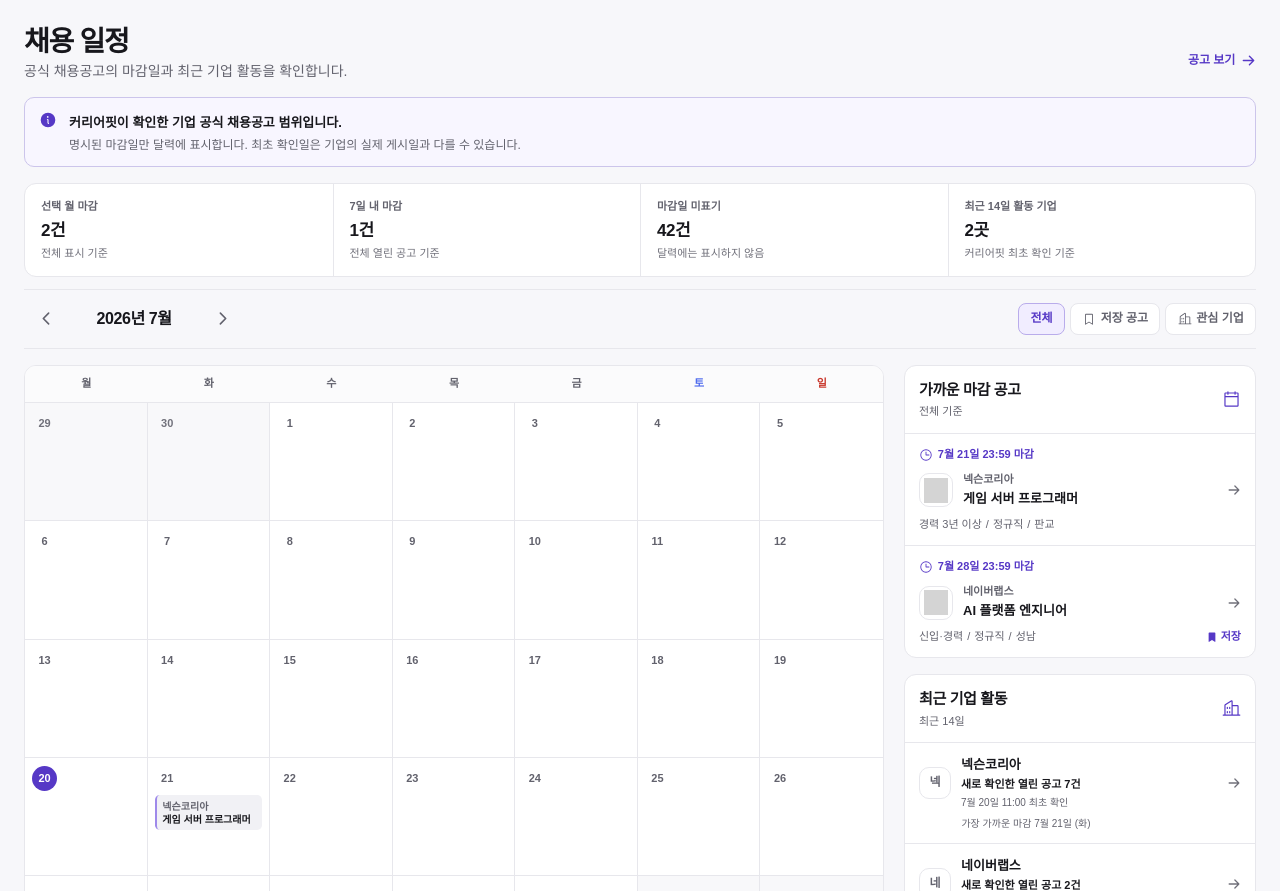
Test: HiringCalendar › filters the same calendar by saved jobs and followed companies
Click the button "저장 공고". click: {"x": 1115, "y": 319}
box: [1070,303,1160,335]
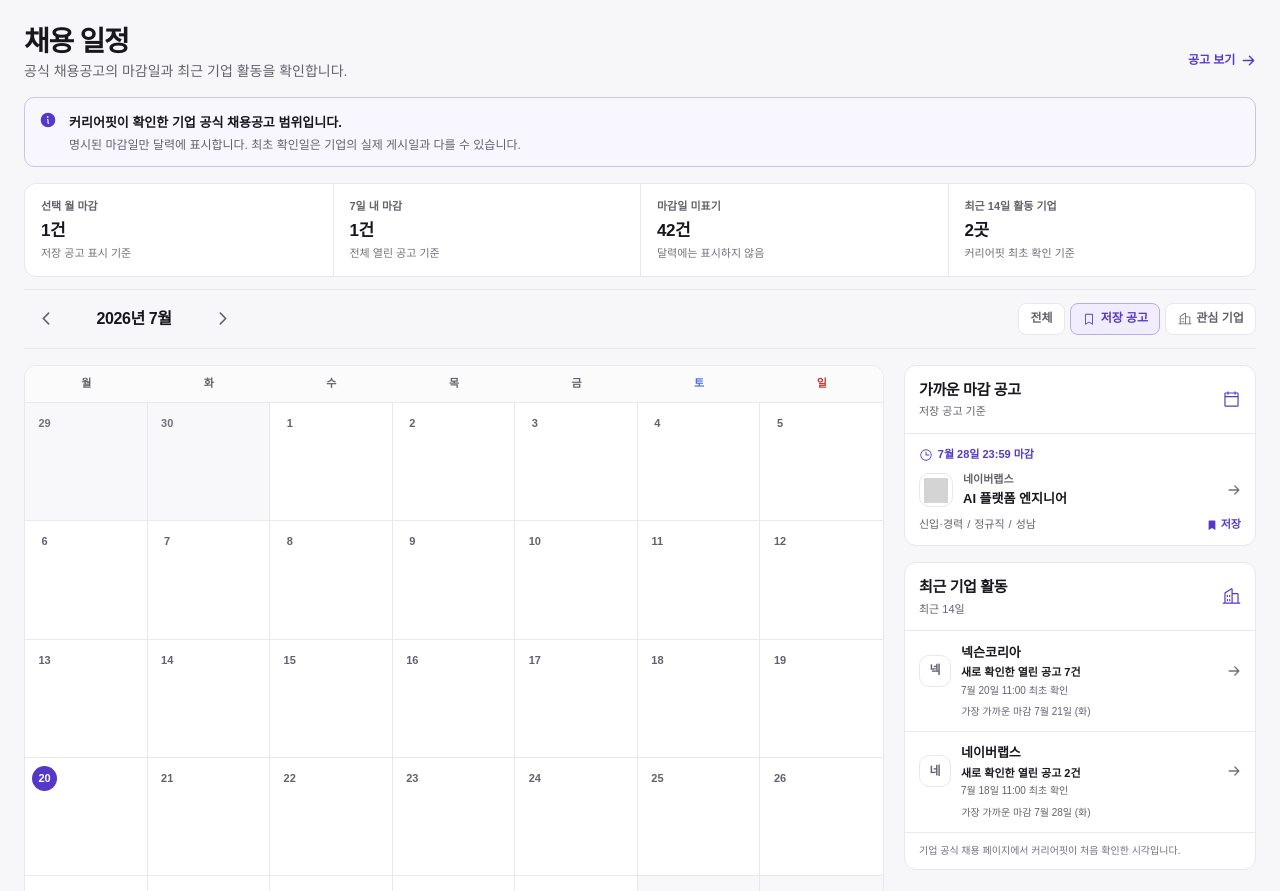
Check: the link "넥슨코리아 게임 서버 프로그래머" is gone
Click the button "관심 기업". click: {"x": 1211, "y": 319}
box: [1165,303,1256,335]
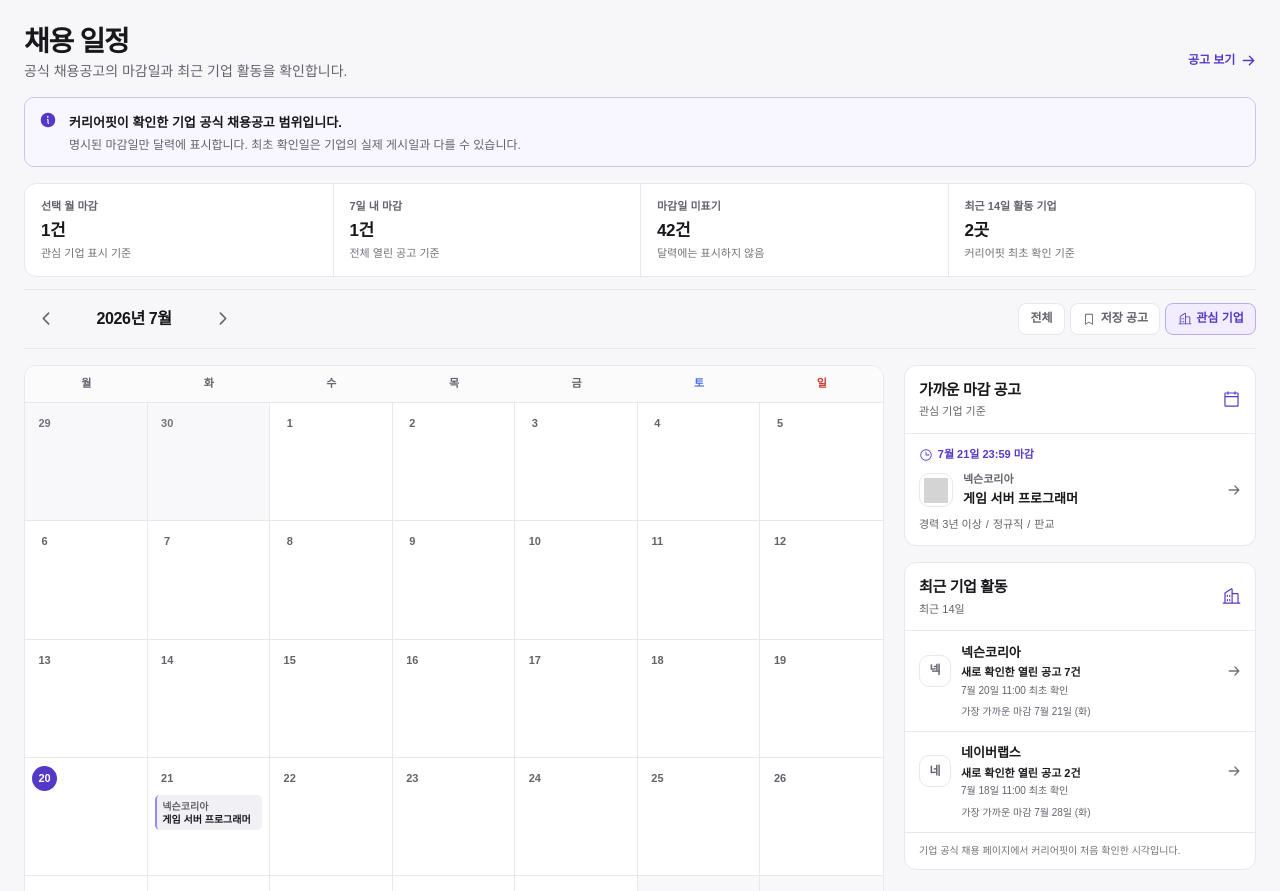
Check: the cell "네이버랩스 AI 플랫폼 엔지니어" is not shown
Check: the link "넥슨코리아 게임 서버 프로그래머" is shown, box [155,795,262,830]
